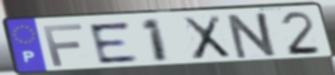1: (141, 17, 173, 64)
2: (279, 10, 322, 56)
E: (86, 20, 142, 65)
F: (40, 22, 86, 68)
N: (226, 10, 281, 60)
X: (180, 14, 233, 62)
